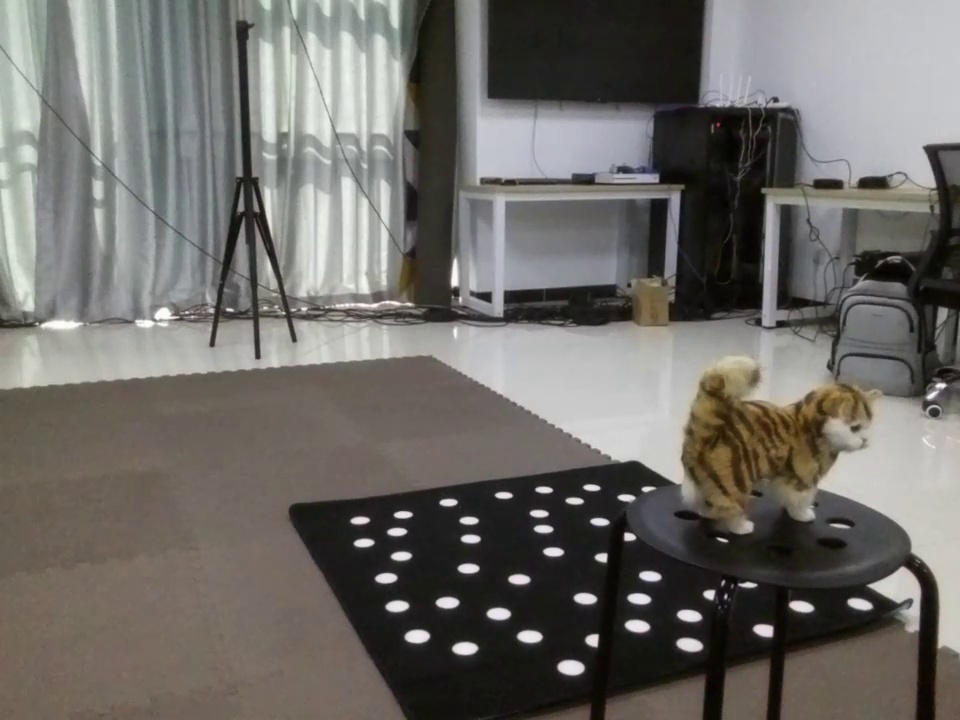cat: (648, 349, 917, 535)
